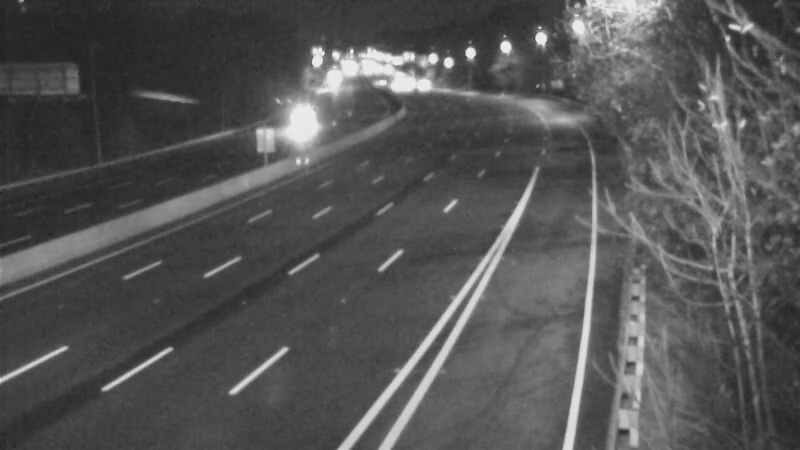vehicle: (282, 91, 332, 141)
